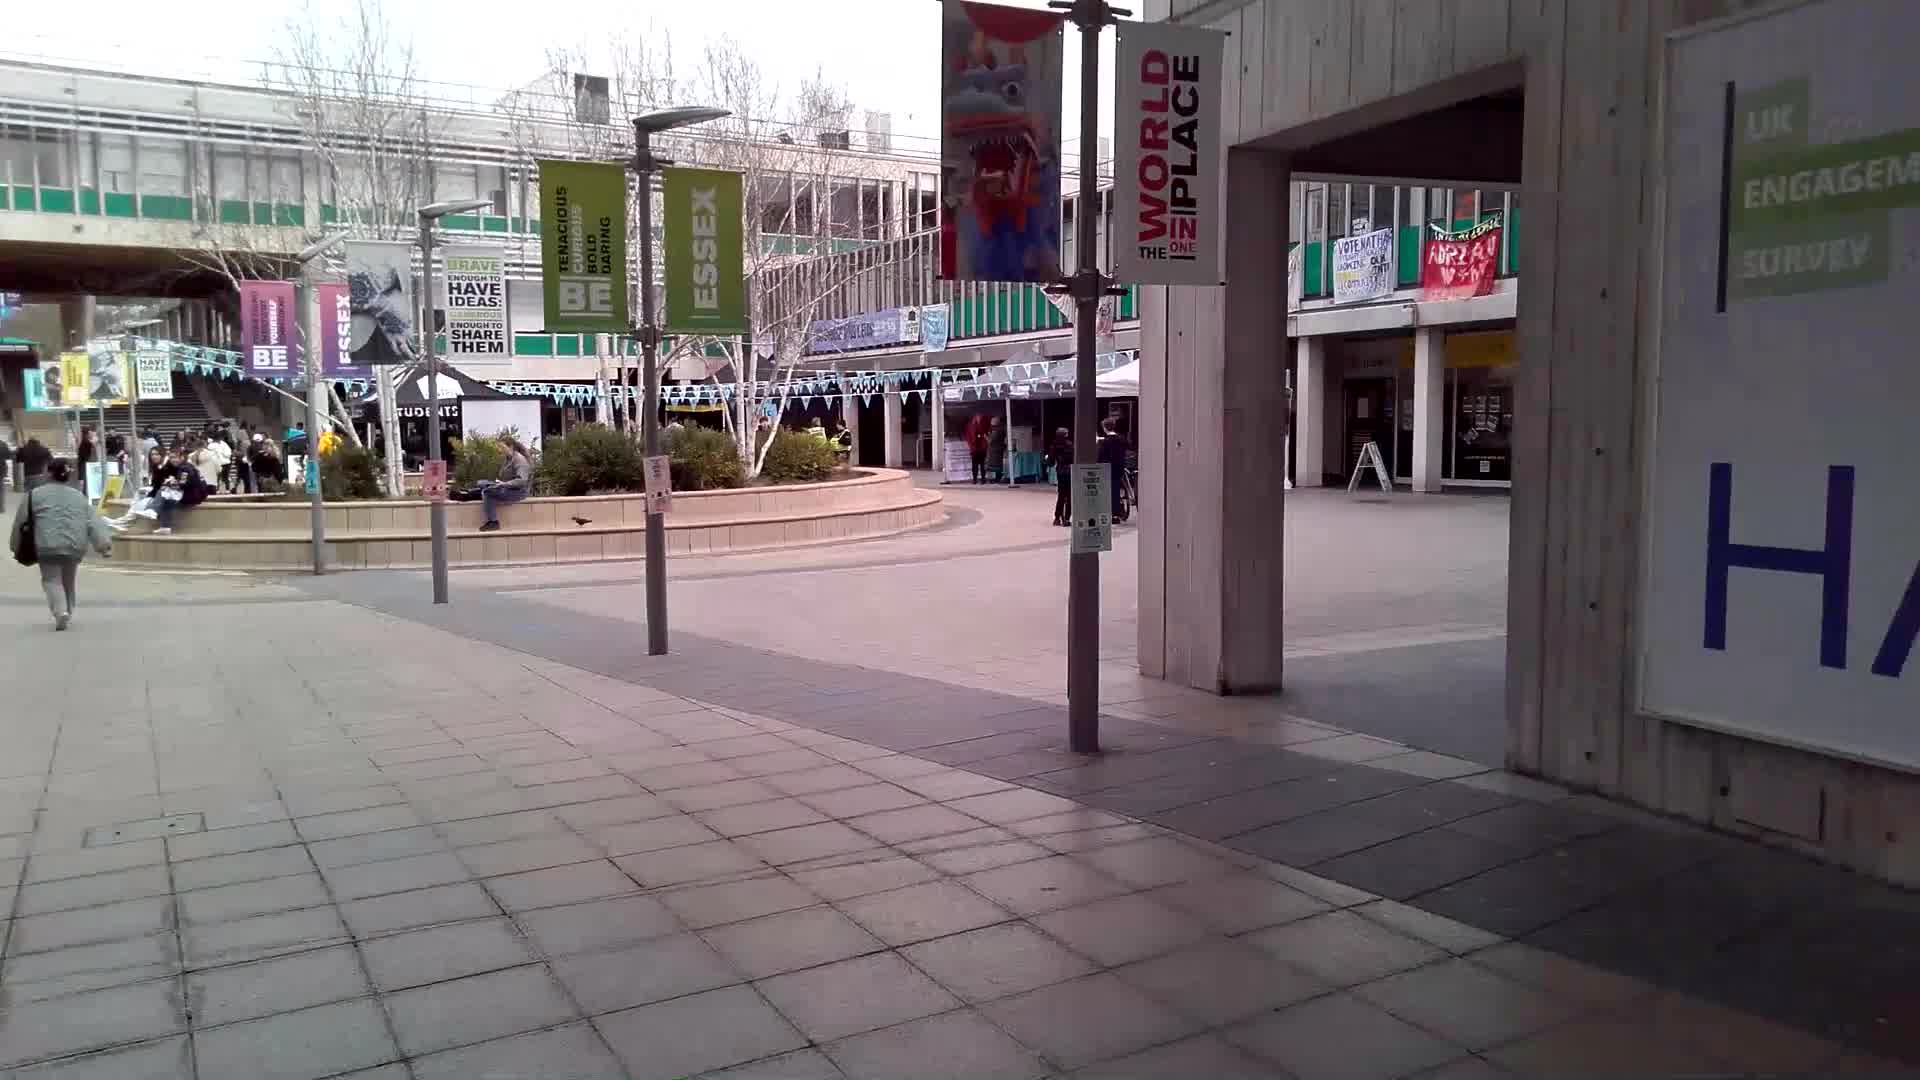Backpack: (12, 510, 52, 577)
Person: (10, 462, 112, 637), (466, 433, 548, 533)
